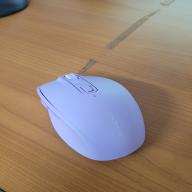mouse: (34, 72, 150, 162)
